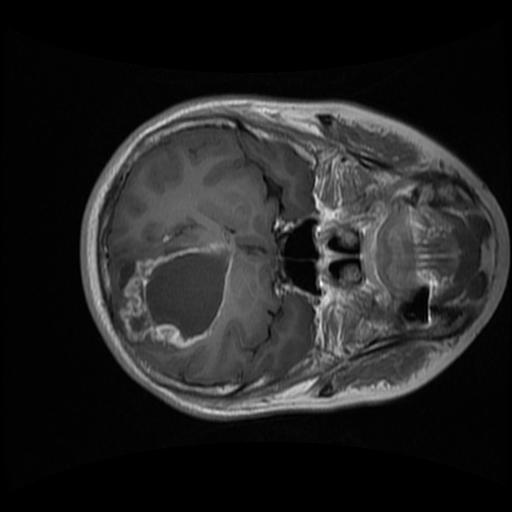glioma: (113, 241, 237, 350)
